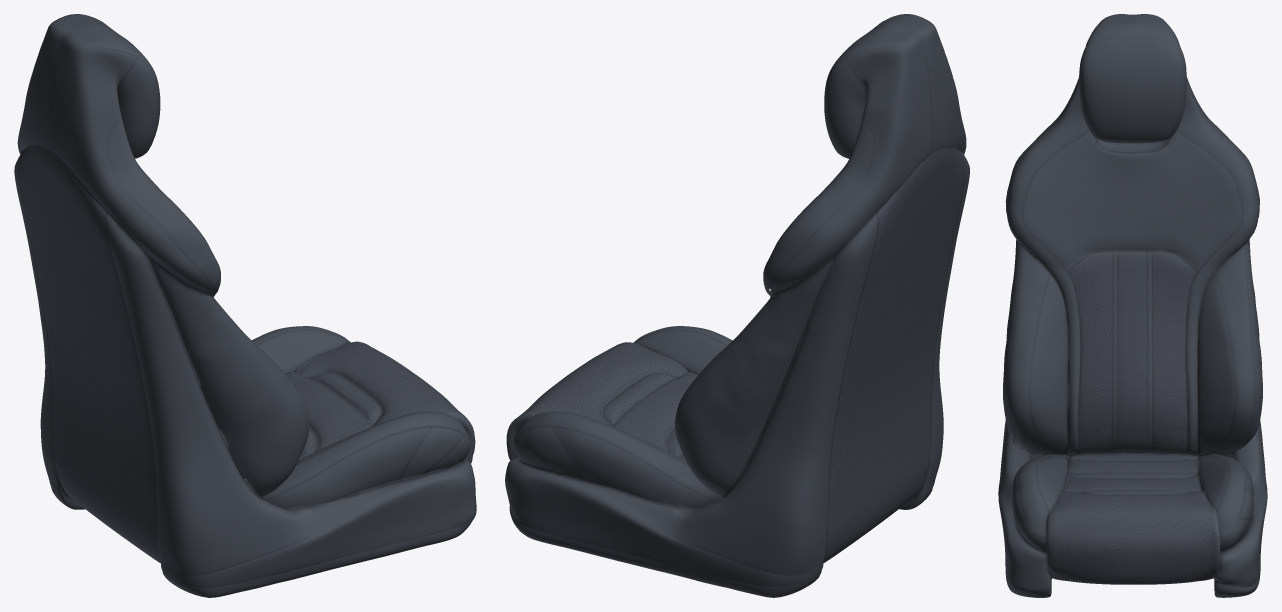
3 views of the same model, side by side, from view 1: azimuth 30°, elevation 25°; view 2: azimuth 150°, elevation 25°; view 3: azimuth 270°, elevation 25° (orthographic). The views are drawn at different scales.
Parts seen in each view (by area): view 1: tripo_node_8f9ea416; view 2: tripo_node_8f9ea416; view 3: tripo_node_8f9ea416.
Boxes of the visible parts, box(x1,y1,x2,y2) form: tripo_node_8f9ea416: box(14, 14, 476, 597); tripo_node_8f9ea416: box(505, 14, 969, 597); tripo_node_8f9ea416: box(998, 14, 1267, 597).
Size of the model in its own units: 1.5 by 2 by 1.09.
Materials: 1 (1 with a texture image).
